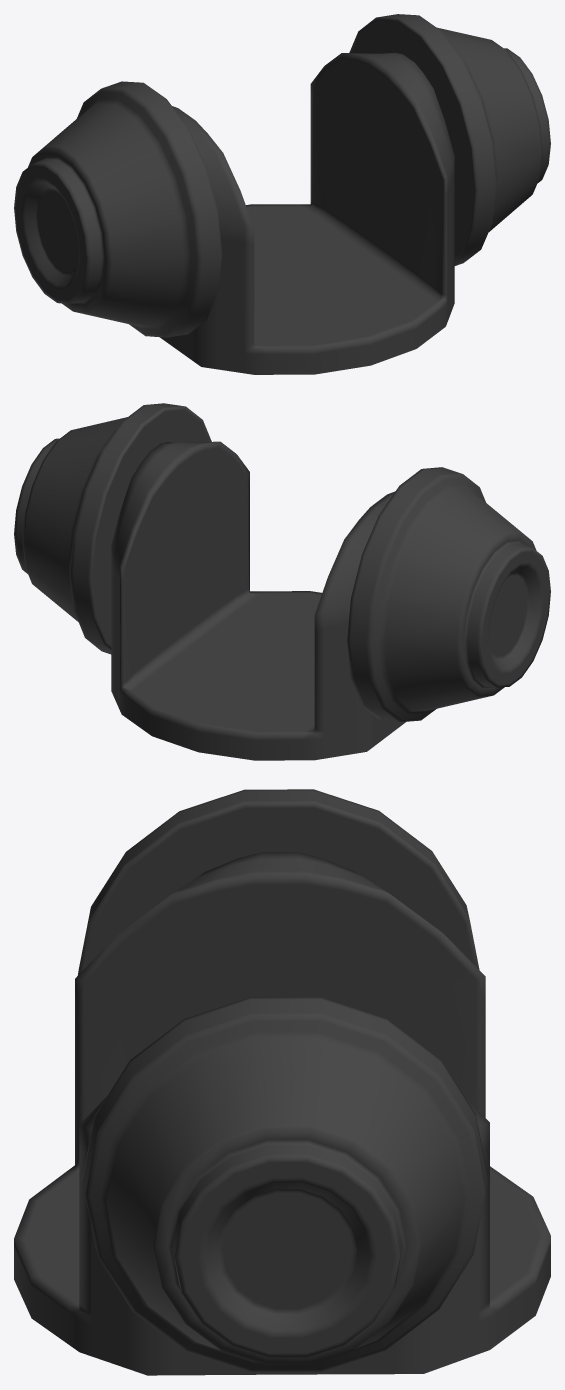
3 renders of one model, top to bottom at view 1: azimuth 30°, elevation 25°; view 2: azimuth 150°, elevation 25°; view 3: azimuth 270°, elevation 25°, orthographic. The views are drawn at different scales.
Parts seen in each view (by area): view 1: link1; view 2: link1; view 3: link1.
Part boxes in pixels (x1,y1,x2,y2): link1: (14,14,550,374); link1: (14,403,550,760); link1: (14,789,550,1375).
Size of the model in its own units: 1.63 by 1.04 by 0.8109.
1 material, 1 textured.
